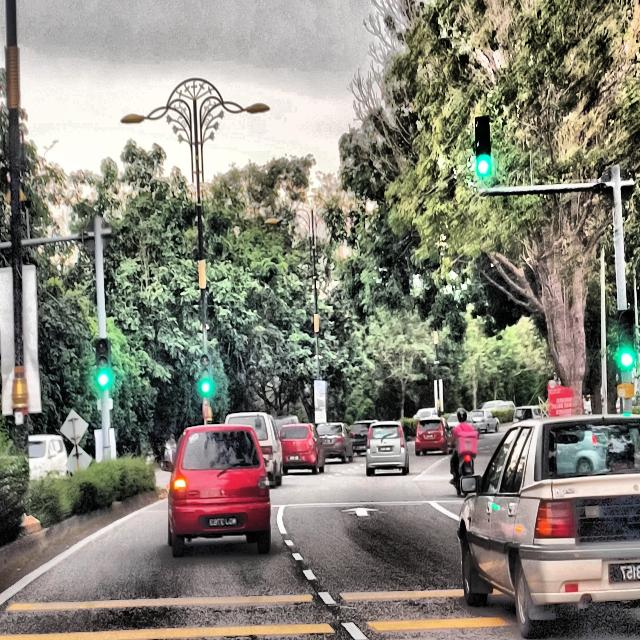green: (617, 309, 634, 369), (475, 117, 491, 175), (96, 340, 112, 388), (200, 353, 211, 396)
